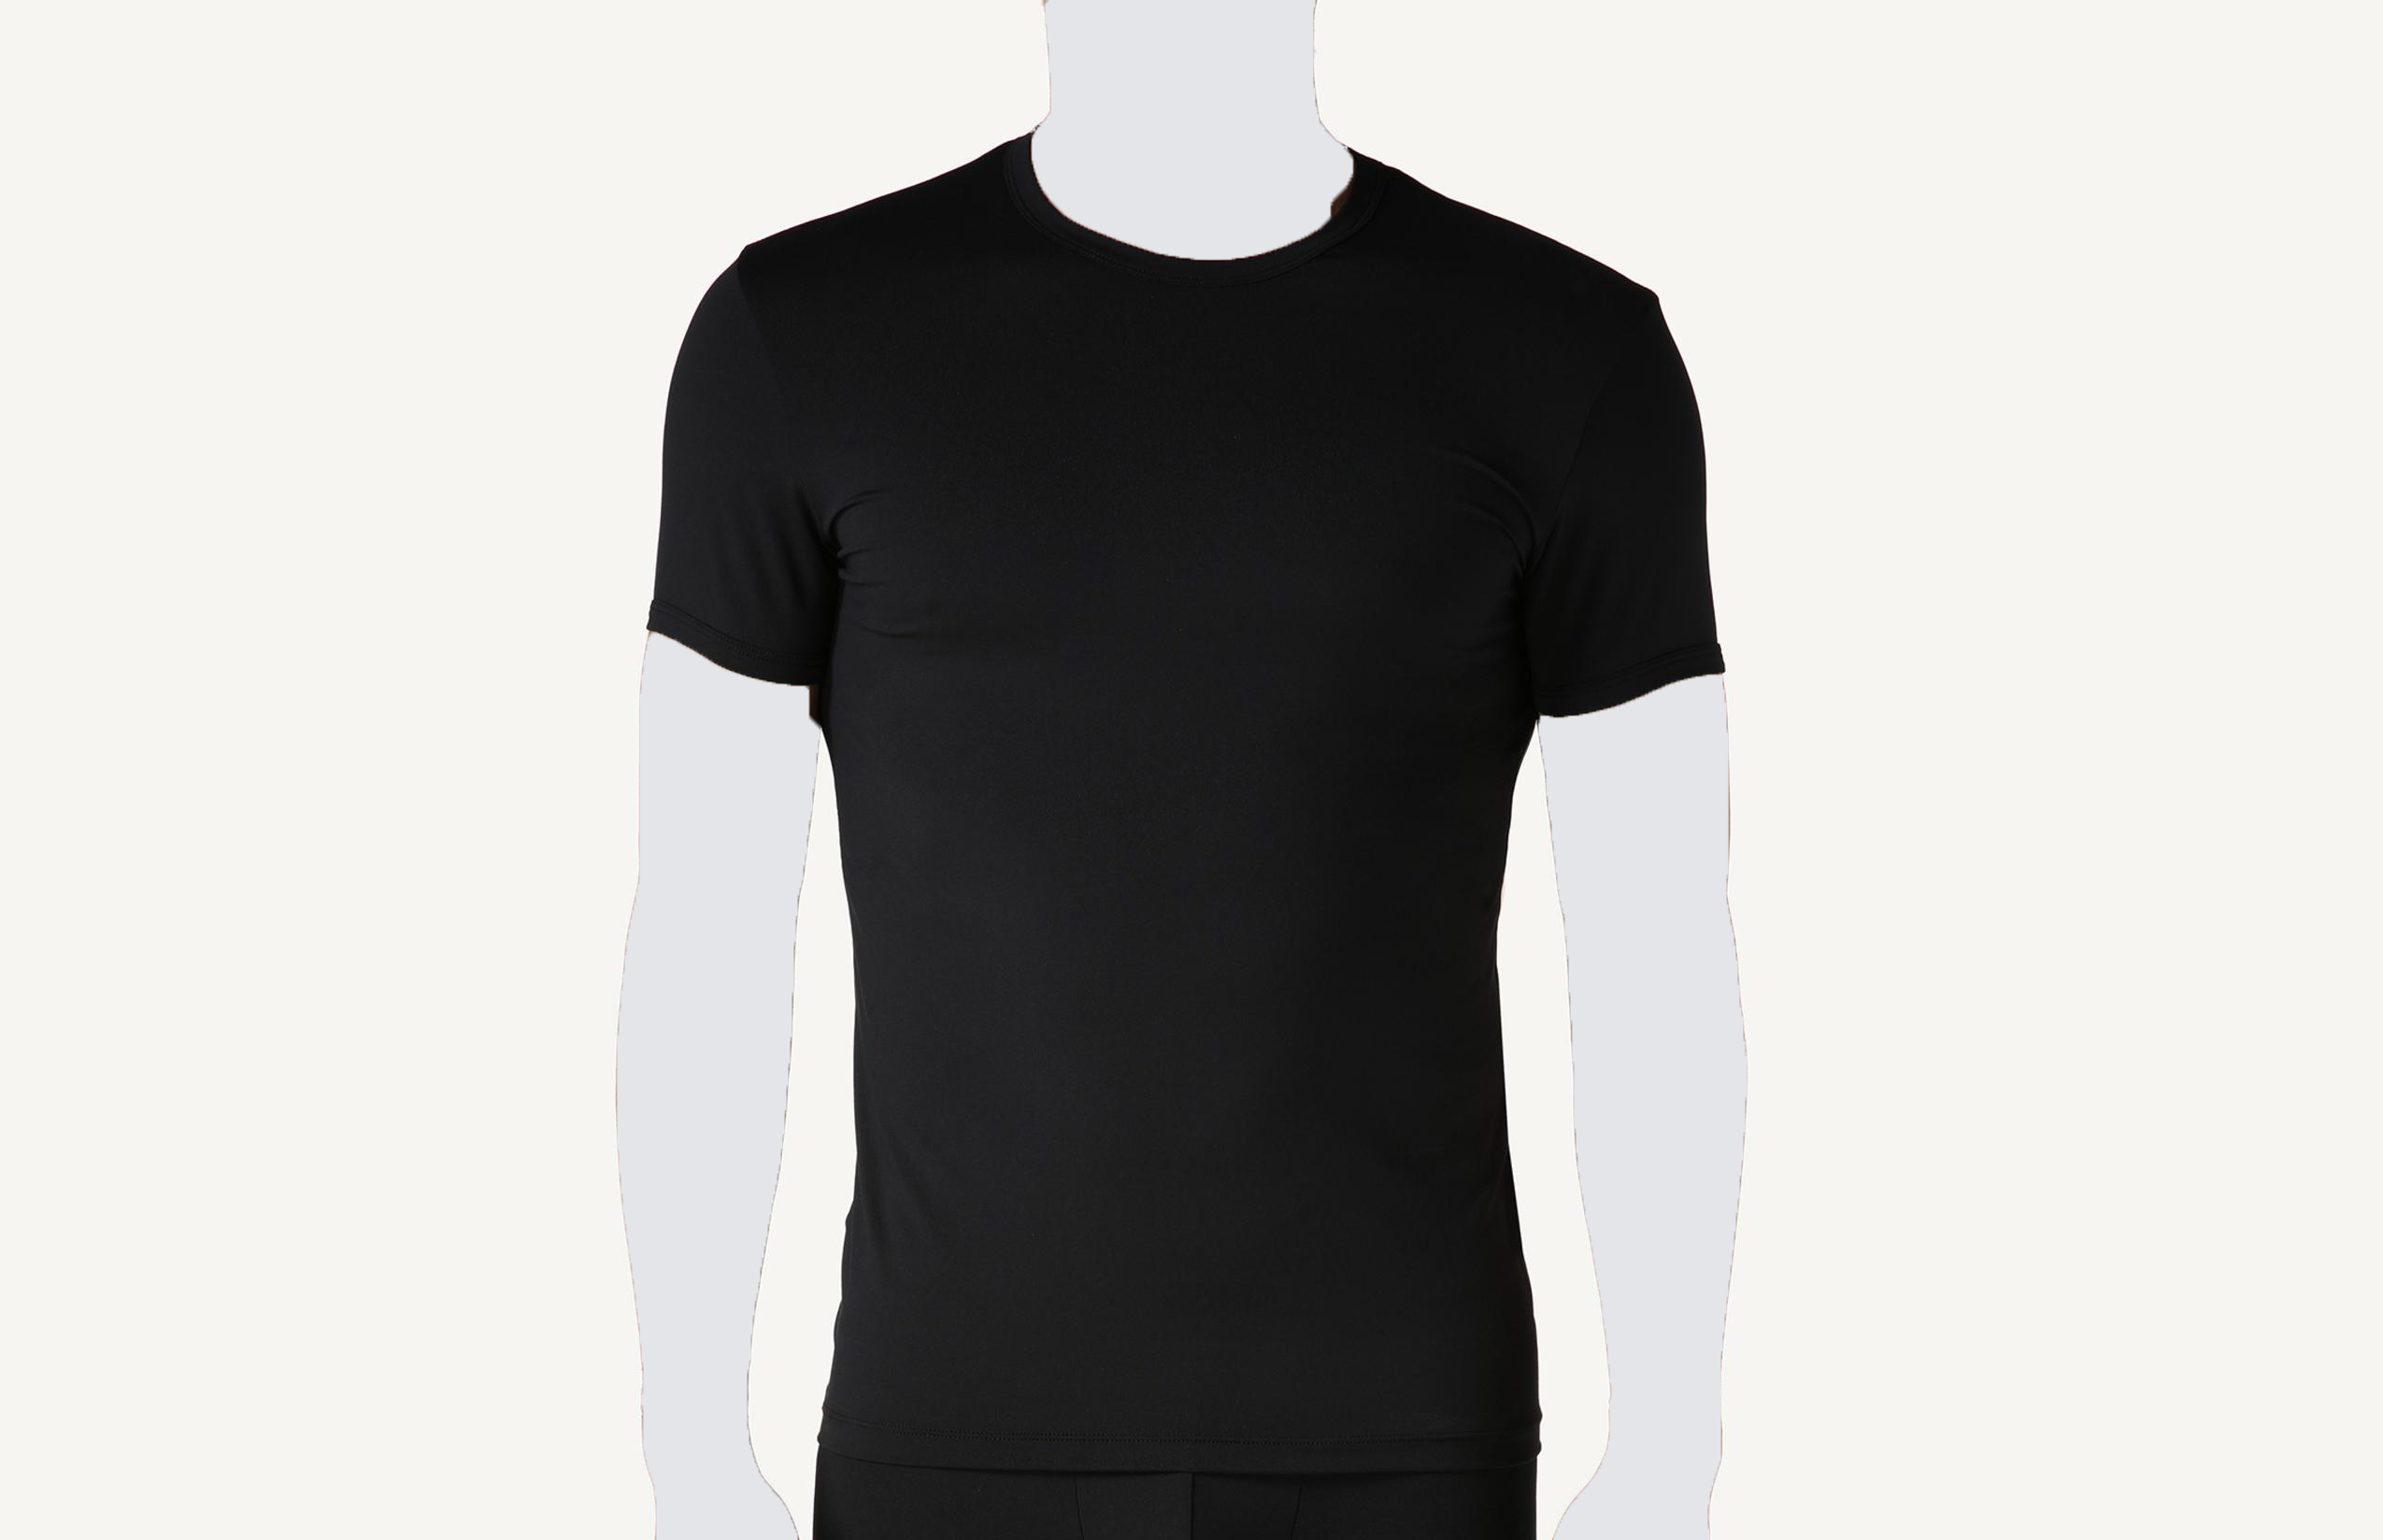teeshirt: (601, 95, 1759, 1540)
